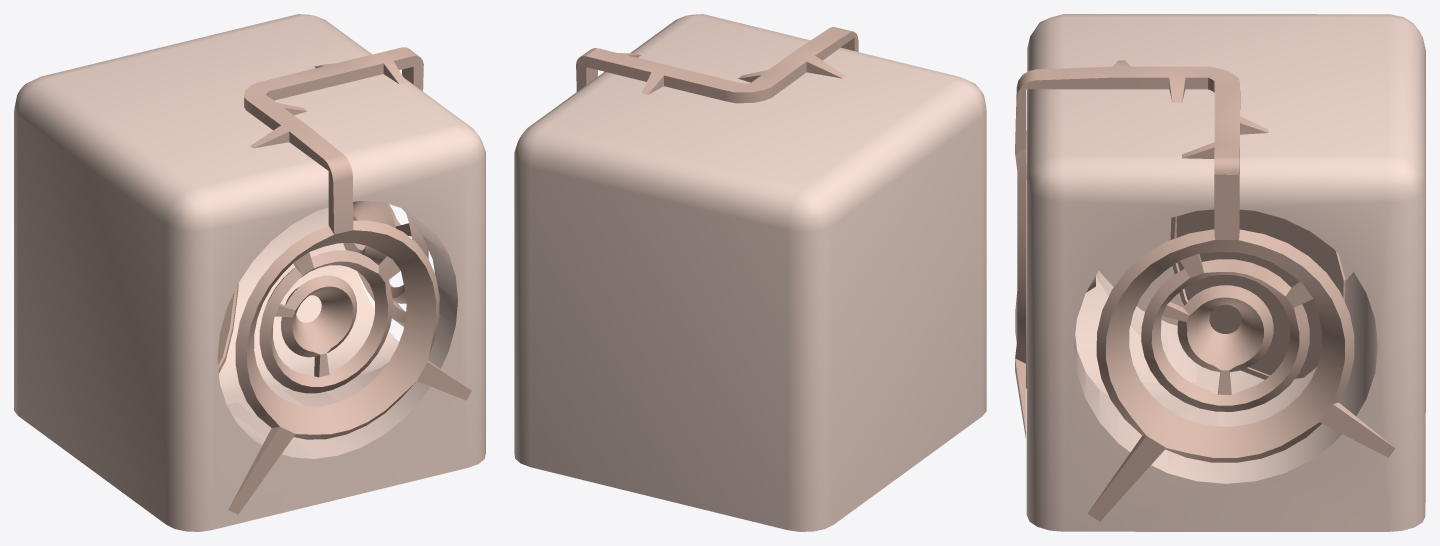
The model's file is CuboPortalLaserTransfer.fbx.
The picture shows the model from 3 angles, left to right: view 1: azimuth 30°, elevation 25°; view 2: azimuth 150°, elevation 25°; view 3: azimuth 270°, elevation 25°; orthographic projection. The views are drawn at different scales.
Visible parts, largest first — view 1: CuboPortalLuz, Circle.003, Circle.004, Circle.005; view 2: CuboPortalLuz, Circle.003; view 3: CuboPortalLuz, Circle.004, Circle.003, Circle.005.
Boxes of the visible parts, x1,y1,x2,y2 form: CuboPortalLuz: [14, 14, 485, 531]; Circle.003: [228, 47, 471, 514]; Circle.004: [343, 63, 428, 326]; Circle.005: [217, 283, 238, 373]; CuboPortalLuz: [514, 14, 986, 531]; Circle.003: [576, 27, 858, 103]; CuboPortalLuz: [1026, 14, 1425, 531]; Circle.004: [1087, 174, 1395, 521]; Circle.003: [1015, 60, 1268, 438]; Circle.005: [1170, 209, 1345, 379].
Bounding box in the file's own units: 81.55 × 81.85 × 81.95.
